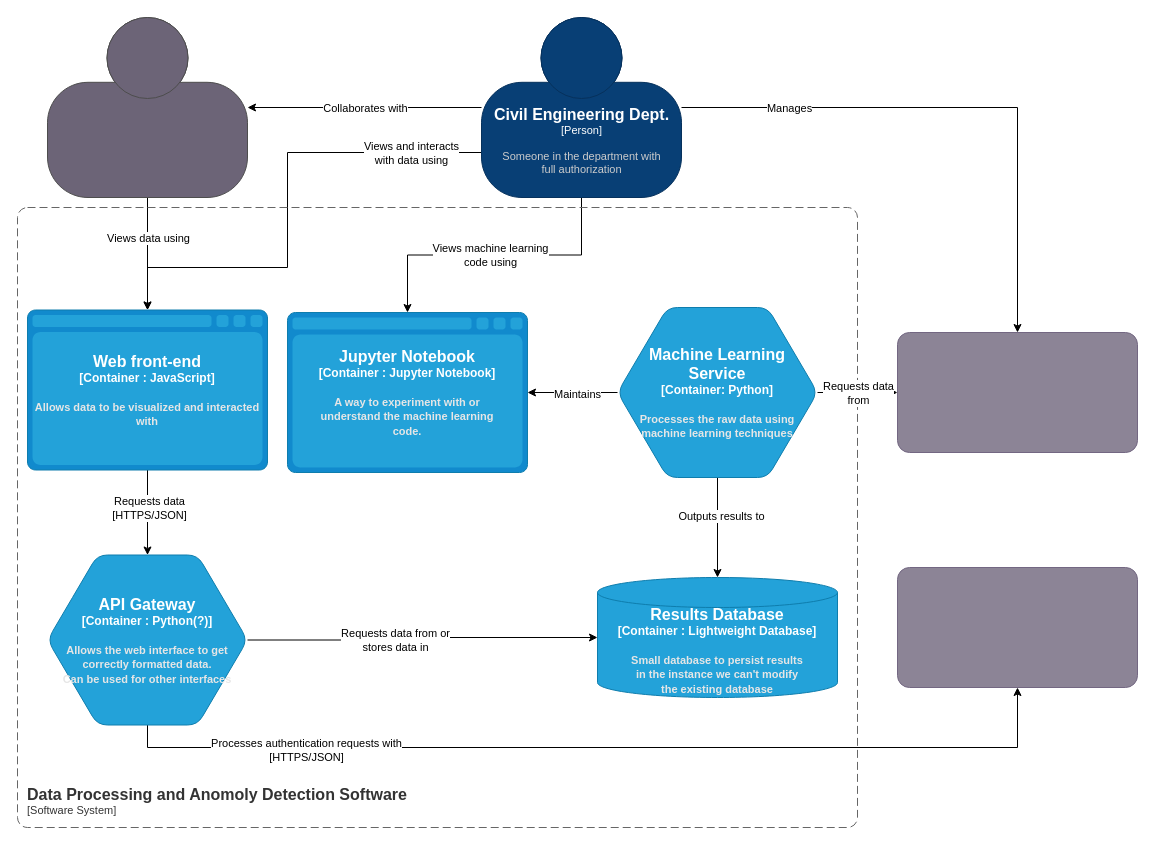
Some shapes in this 1155 by 845 pixel diagram are drawn without their labels. The centre of each missing label's shape, as x and y in pixels:
Collaborator [Person] Someone outside of the department with limited access: point 147,107
Existing data input and database system [Software System]: point 1017,392
External Authentication System [Software System]: point 1017,627
